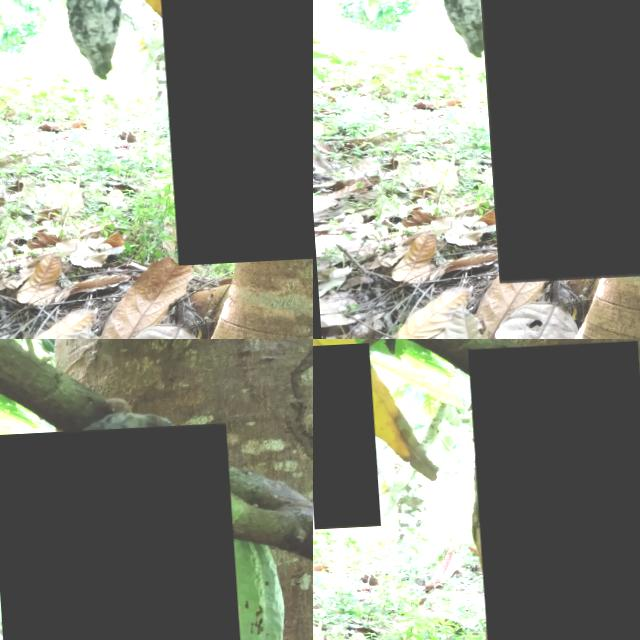Fitoftora: (0, 428, 240, 640), (151, 0, 313, 268)
Monilia: (465, 346, 640, 640), (313, 345, 376, 531)
Sana: (471, 0, 640, 285)
